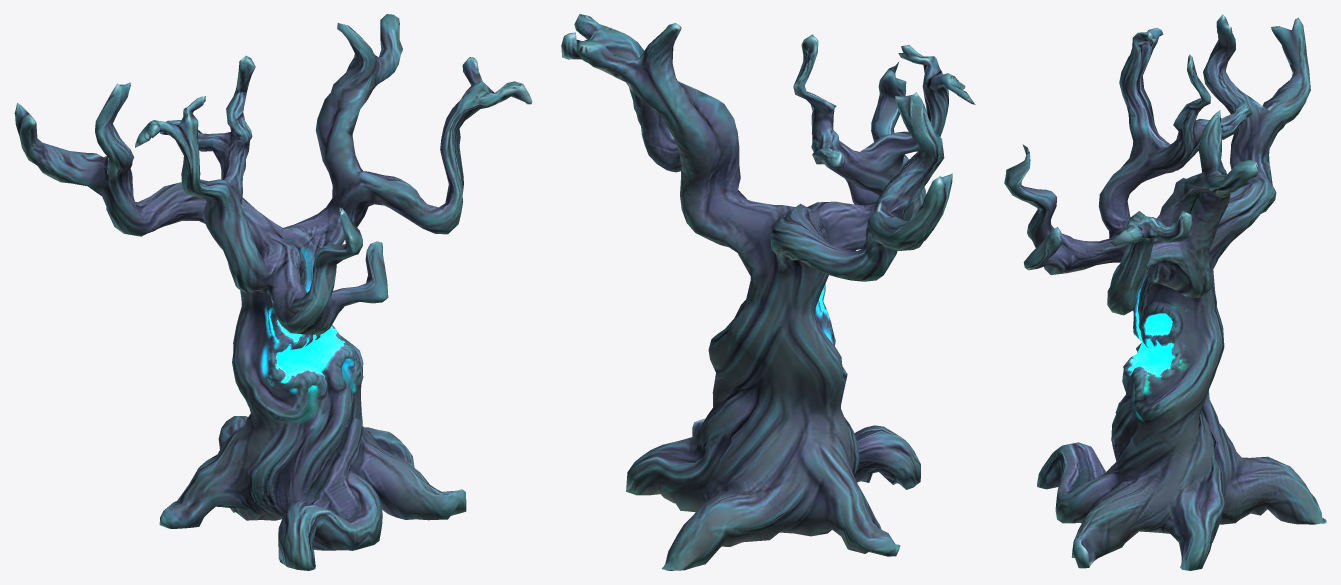
The model's file is easter_egg_tree.glb.
The picture shows the model from 3 angles, left to right: view 1: azimuth 30°, elevation 25°; view 2: azimuth 150°, elevation 25°; view 3: azimuth 270°, elevation 25°; orthographic projection. The views are drawn at different scales.
Parts seen in each view (by area): view 1: trees.001; view 2: trees.001; view 3: trees.001.
Boxes of the visible parts, x1,y1,x2,y2 form: trees.001: (14,14,532,570); trees.001: (561,14,975,570); trees.001: (1004,14,1326,570).
Size of what is drawn, in the model's own units: 12.43 by 12.73 by 8.51.
1 material, 1 textured.
